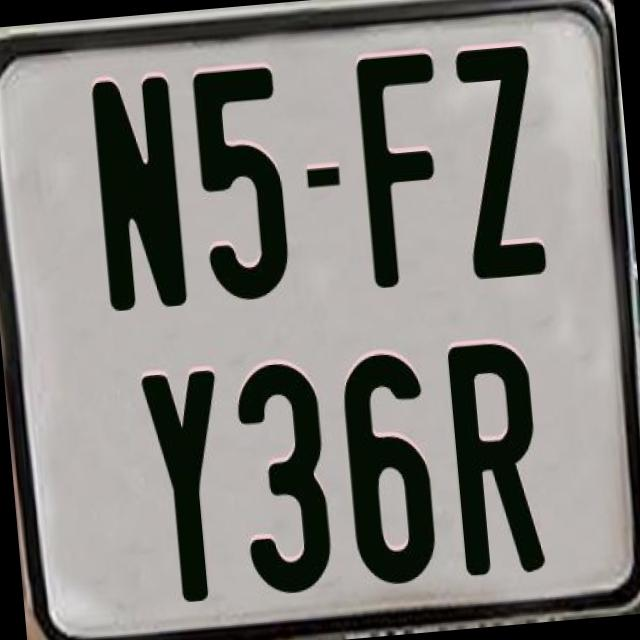3: (230, 358, 338, 596)
5: (187, 62, 295, 302)
6: (335, 350, 440, 596)
F: (354, 51, 452, 288)
N: (86, 75, 186, 319)
R: (444, 335, 550, 582)
Y: (138, 364, 238, 607)
Z: (452, 46, 544, 284)
